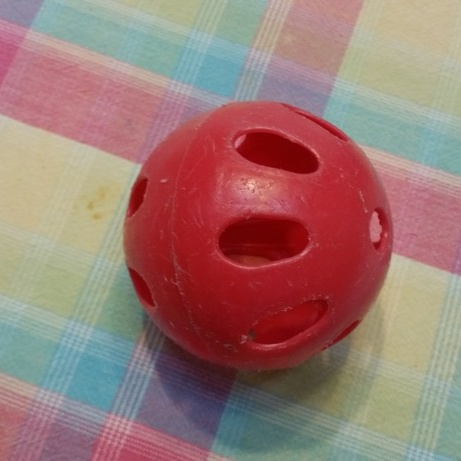redball: (119, 97, 397, 374)
